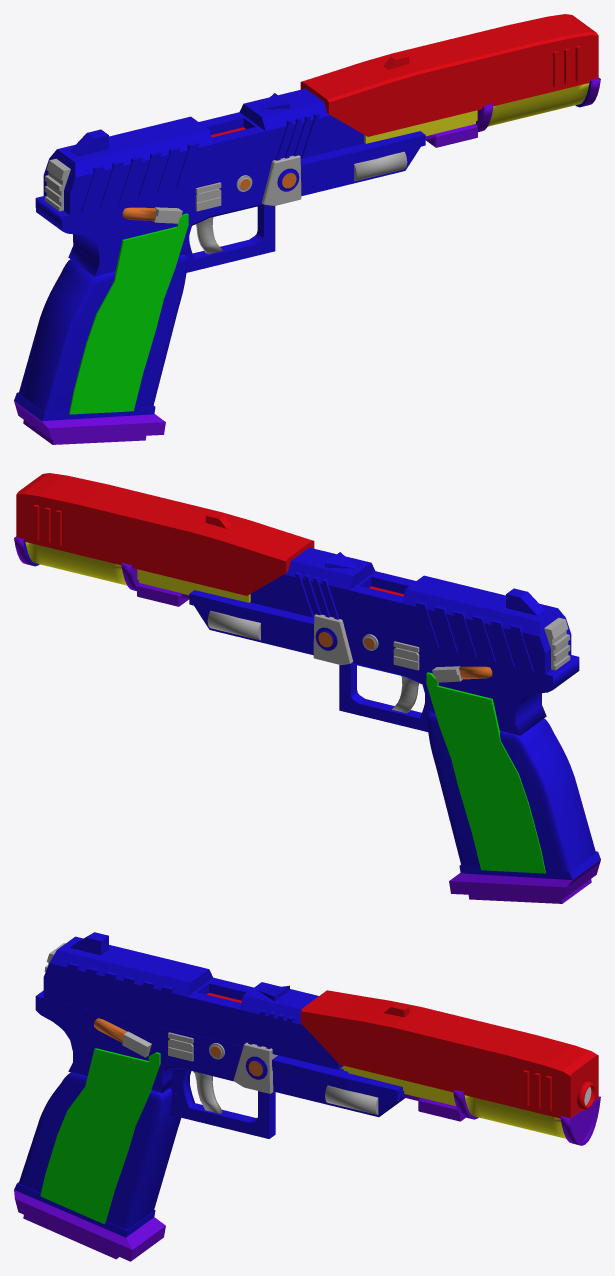
Rendered from Blaster_Low.fbx.
The picture shows the model from 3 angles, top to bottom: view 1: azimuth 30°, elevation 25°; view 2: azimuth 150°, elevation 25°; view 3: azimuth 330°, elevation 25°; orthographic projection.
Parts seen in each view (by area): view 1: Low_Poly; view 2: Low_Poly; view 3: Low_Poly.
Part boxes in pixels (<box>): Low_Poly: <box>14,14,600,444</box>; Low_Poly: <box>14,473,600,903</box>; Low_Poly: <box>14,932,600,1261</box>.
Size of the model in its own units: 814 by 426 by 88.5.
